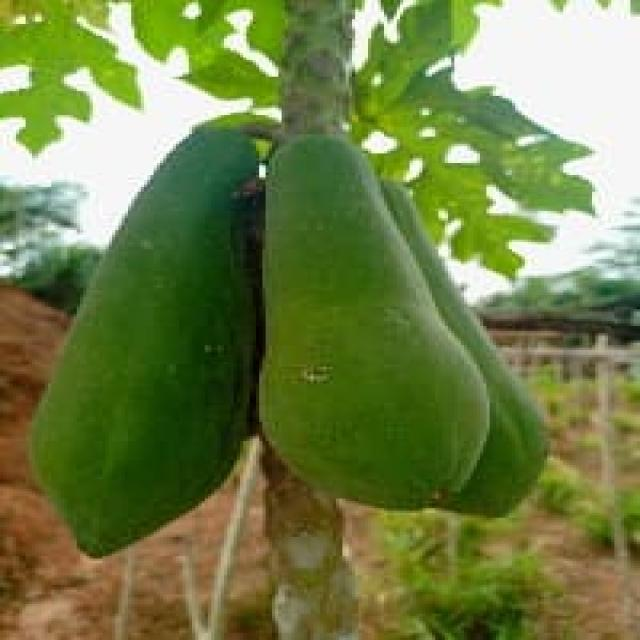Pepaya: (22, 120, 270, 563), (260, 140, 510, 514)
